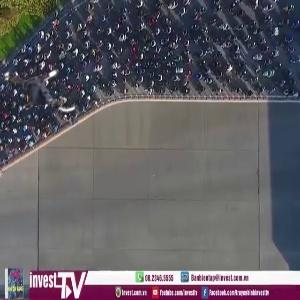drone: (2, 54, 80, 132)
